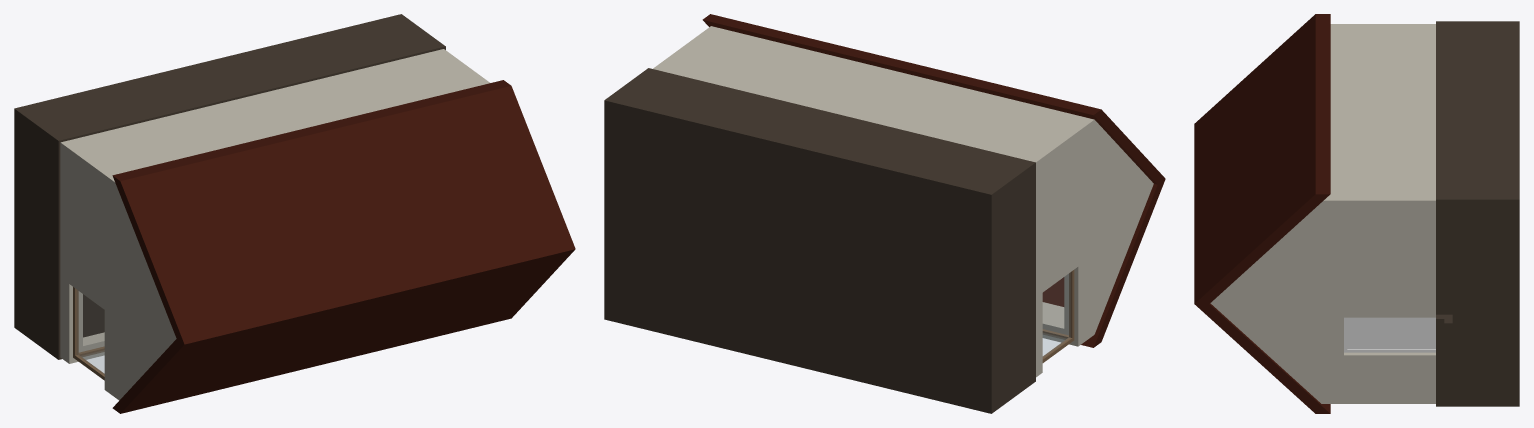
The model's file is output_small_house.obj.
3 renders of one model, left to right at view 1: azimuth 30°, elevation 25°; view 2: azimuth 150°, elevation 25°; view 3: azimuth 270°, elevation 25°, orthographic. The views are drawn at different scales.
Parts seen in each view (by area): view 1: product-234ad039-ad59-4d48-bf55-7d807601c0f4-body, product-20495bae-d75c-40b3-9c18-baad342a5fdb-body, product-58bab9a2-713e-45c4-b162-a02a8d240b3b-body, product-a77304b6-882b-4101-84e4-7a715bc150e8-body, product-4545ad5f-2208-42c7-89fe-39871ca7243d-body, product-fe8edb0c-f641-4919-b9bf-6431a7d2b310-body, product-c85b92af-3024-476e-b778-c01d403d33ea-body; view 2: product-20495bae-d75c-40b3-9c18-baad342a5fdb-body, product-a77304b6-882b-4101-84e4-7a715bc150e8-body, product-4545ad5f-2208-42c7-89fe-39871ca7243d-body, product-234ad039-ad59-4d48-bf55-7d807601c0f4-body, product-58bab9a2-713e-45c4-b162-a02a8d240b3b-body, product-fe8edb0c-f641-4919-b9bf-6431a7d2b310-body, product-c85b92af-3024-476e-b778-c01d403d33ea-body; view 3: product-20495bae-d75c-40b3-9c18-baad342a5fdb-body, product-a1b6db32-d2e3-4002-acb7-d50c34cd9c7a-body, product-234ad039-ad59-4d48-bf55-7d807601c0f4-body, product-a77304b6-882b-4101-84e4-7a715bc150e8-body, product-8481f091-1e69-435a-a37d-eaa82d065221-body, product-58bab9a2-713e-45c4-b162-a02a8d240b3b-body, product-c85b92af-3024-476e-b778-c01d403d33ea-body, product-77845d9e-780d-4989-b857-8ba1774fced3-body.
Part boxes in pixels (bbox=[...]): product-234ad039-ad59-4d48-bf55-7d807601c0f4-body: bbox=[112, 80, 575, 344]; product-20495bae-d75c-40b3-9c18-baad342a5fdb-body: bbox=[14, 14, 445, 359]; product-58bab9a2-713e-45c4-b162-a02a8d240b3b-body: bbox=[112, 249, 574, 413]; product-a77304b6-882b-4101-84e4-7a715bc150e8-body: bbox=[60, 49, 489, 202]; product-4545ad5f-2208-42c7-89fe-39871ca7243d-body: bbox=[60, 150, 176, 395]; product-fe8edb0c-f641-4919-b9bf-6431a7d2b310-body: bbox=[77, 290, 103, 373]; product-c85b92af-3024-476e-b778-c01d403d33ea-body: bbox=[60, 332, 124, 400]; product-20495bae-d75c-40b3-9c18-baad342a5fdb-body: bbox=[604, 68, 1035, 413]; product-a77304b6-882b-4101-84e4-7a715bc150e8-body: bbox=[653, 26, 1100, 176]; product-4545ad5f-2208-42c7-89fe-39871ca7243d-body: bbox=[1036, 125, 1153, 362]; product-234ad039-ad59-4d48-bf55-7d807601c0f4-body: bbox=[702, 14, 1165, 184]; product-58bab9a2-713e-45c4-b162-a02a8d240b3b-body: bbox=[1042, 179, 1165, 347]; product-fe8edb0c-f641-4919-b9bf-6431a7d2b310-body: bbox=[1043, 273, 1070, 356]; product-c85b92af-3024-476e-b778-c01d403d33ea-body: bbox=[1036, 302, 1100, 377]; product-20495bae-d75c-40b3-9c18-baad342a5fdb-body: bbox=[1436, 21, 1519, 406]; product-a1b6db32-d2e3-4002-acb7-d50c34cd9c7a-body: bbox=[1210, 207, 1435, 396]; product-234ad039-ad59-4d48-bf55-7d807601c0f4-body: bbox=[1194, 14, 1330, 303]; product-a77304b6-882b-4101-84e4-7a715bc150e8-body: bbox=[1310, 24, 1435, 214]; product-8481f091-1e69-435a-a37d-eaa82d065221-body: bbox=[1344, 317, 1435, 352]; product-58bab9a2-713e-45c4-b162-a02a8d240b3b-body: bbox=[1194, 303, 1330, 413]; product-c85b92af-3024-476e-b778-c01d403d33ea-body: bbox=[1310, 390, 1435, 403]; product-77845d9e-780d-4989-b857-8ba1774fced3-body: bbox=[1436, 314, 1452, 368].
Size of the model in its own units: 10.65 by 5.8 by 7.78.
